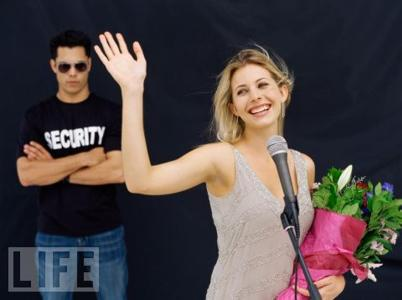person: (93, 32, 345, 299)
